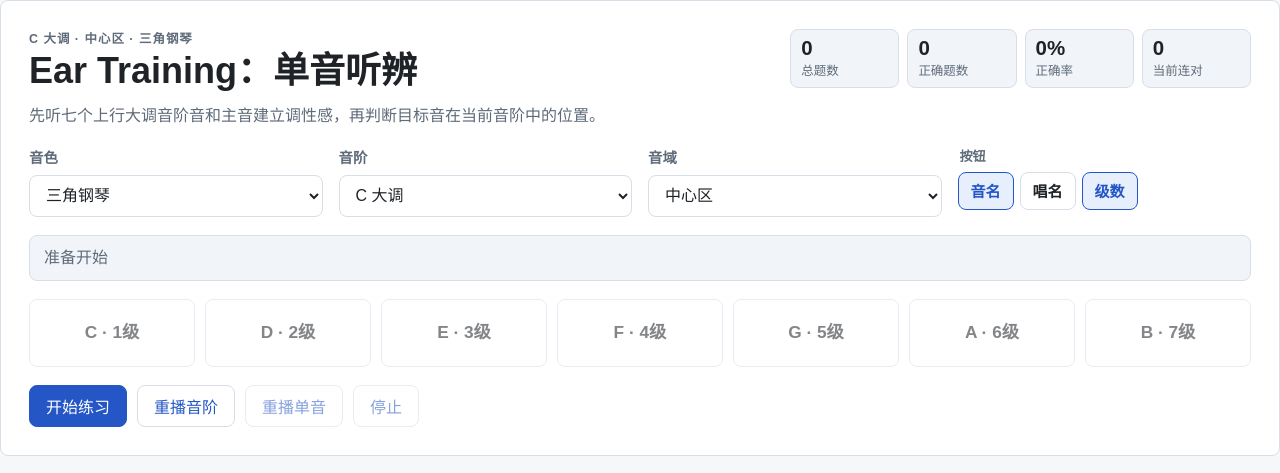
Test: EarTrainingPage › 从参考音阶进入随机单音答题，并在答对后更新会话统计
Click the button "开始练习" at (78, 406), box [29,385,127,427]
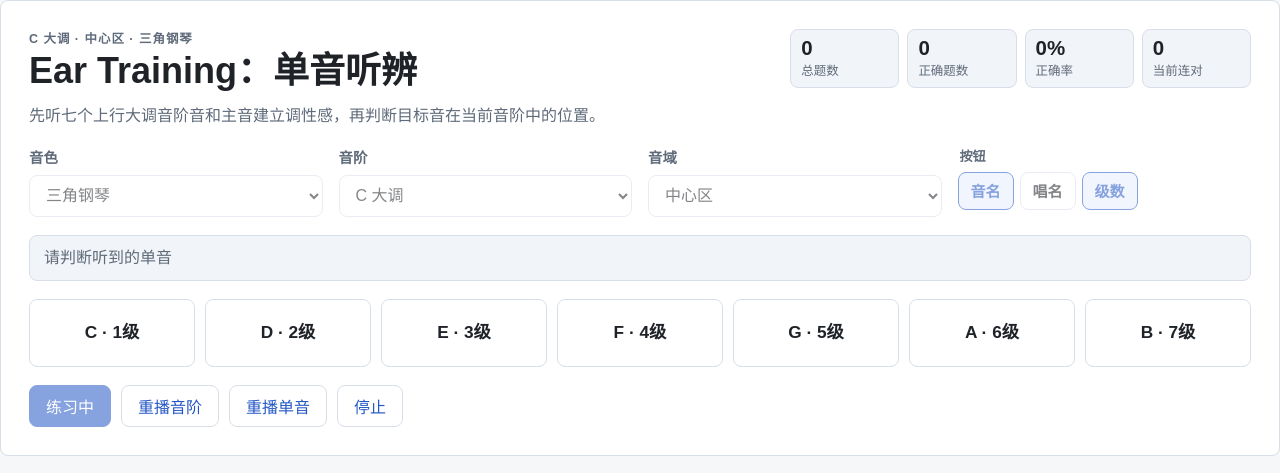
Result: the text "请判断听到的单音" is shown at [29,235,1251,281]
Result: the button "练习中" is disabled at [29,385,111,427]
Click the button "C · 1级" at (112, 333), box [29,299,195,367]
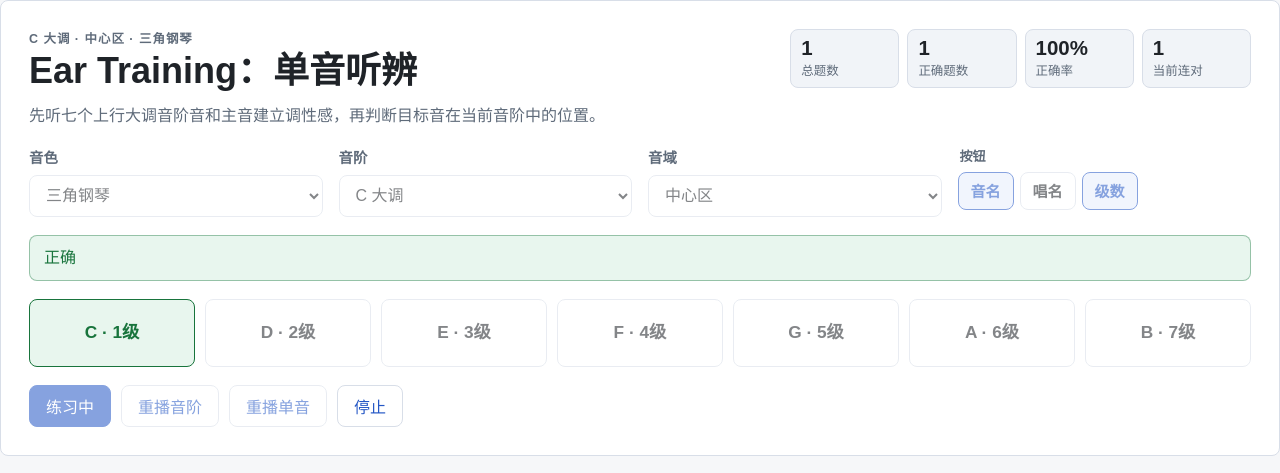
Result: the message reads "正确" at [44,249,76,266]
Result: the text "100%" is shown at [1036,36,1088,59]
Result: the 3rd text "1" is shown at [1153,36,1164,59]
